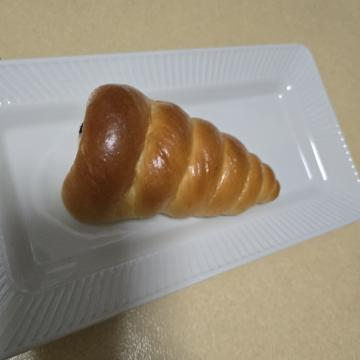cream horn: (66, 68, 248, 316)
